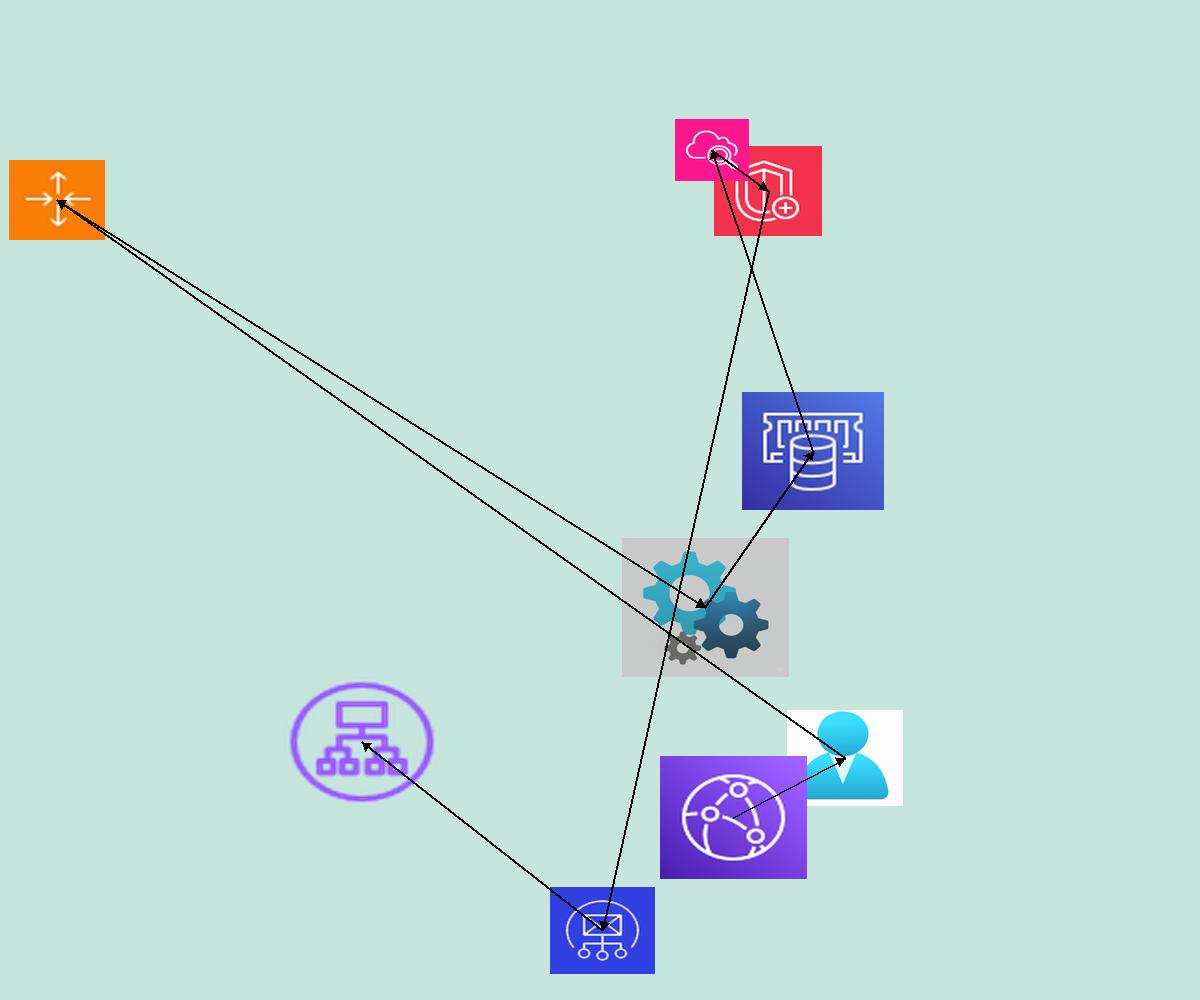AWS-CloudFront: (660, 756, 807, 879)
AWS-CloudWatch: (675, 119, 749, 181)
AWS-ElastiCache: (742, 392, 884, 510)
AWS-Res_Elastic-Load-Balancing_Application-Load-Balancer: (284, 677, 440, 807)
AWS-Scaling-group: (9, 160, 105, 240)
AWS-Shield: (714, 146, 822, 236)
AWS-Simple-Email-Service: (550, 887, 655, 974)
Azure_api: (622, 538, 789, 677)
Azure_users: (787, 710, 903, 806)
